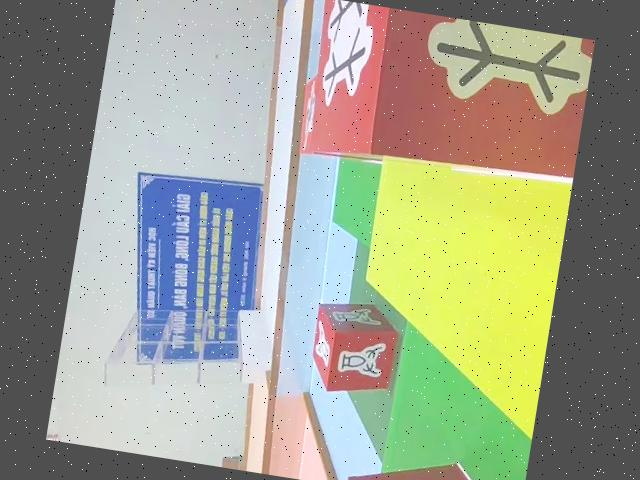R2 Fake: (341, 443, 526, 480)
R2 Real: (294, 0, 594, 193), (302, 292, 405, 401)
